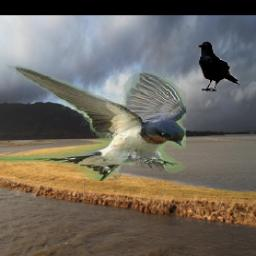Crow: (196, 40, 240, 91)
Swallow: (0, 63, 186, 181)
